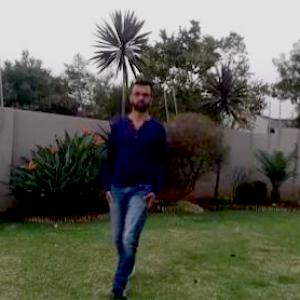follow: (102, 85, 158, 275)
